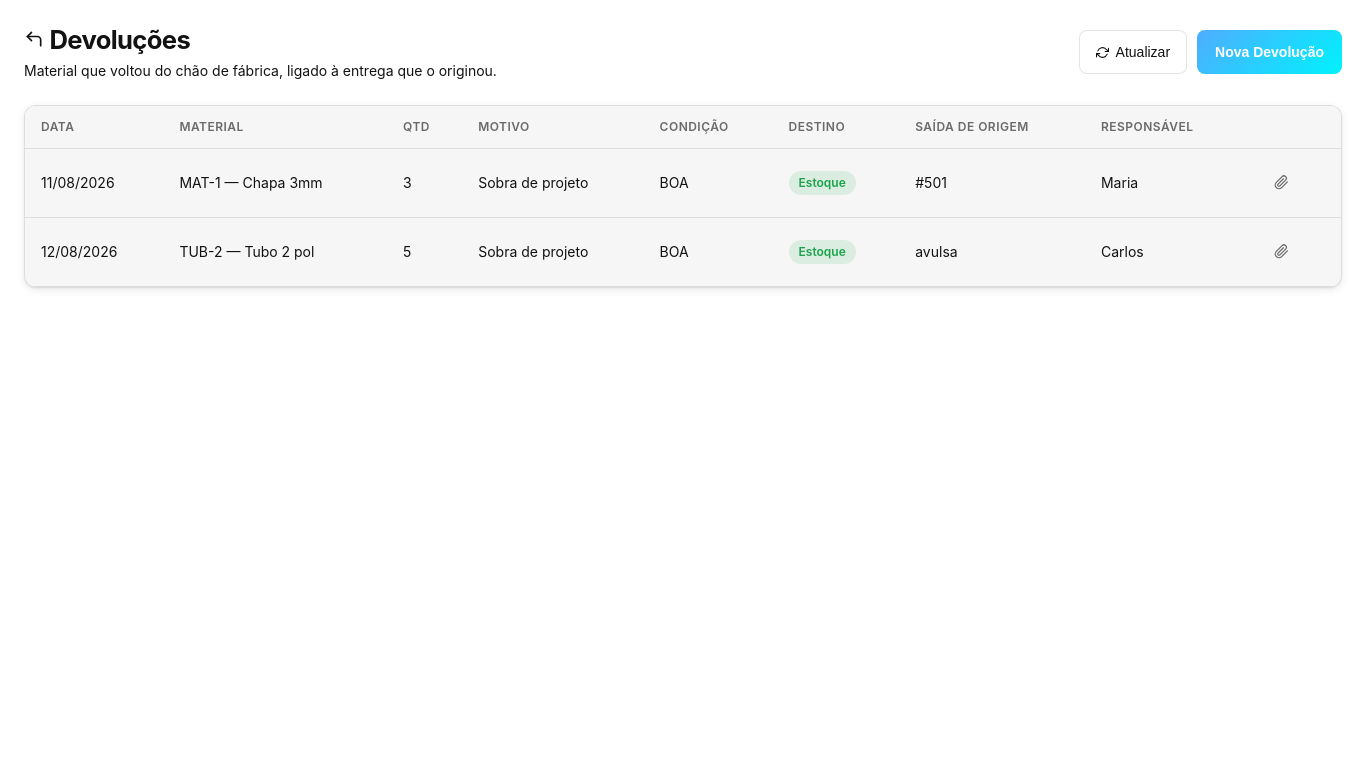
Scenario: DevolucoesAlmoxarifado — anexos da devolução (Etapa 34) › o clipe abre o modal de anexos DA devolucao da linha — e nao da primeira
Click the button with test id "anexos-devolucao-42": click(1282, 252) [1260, 230, 1304, 274]
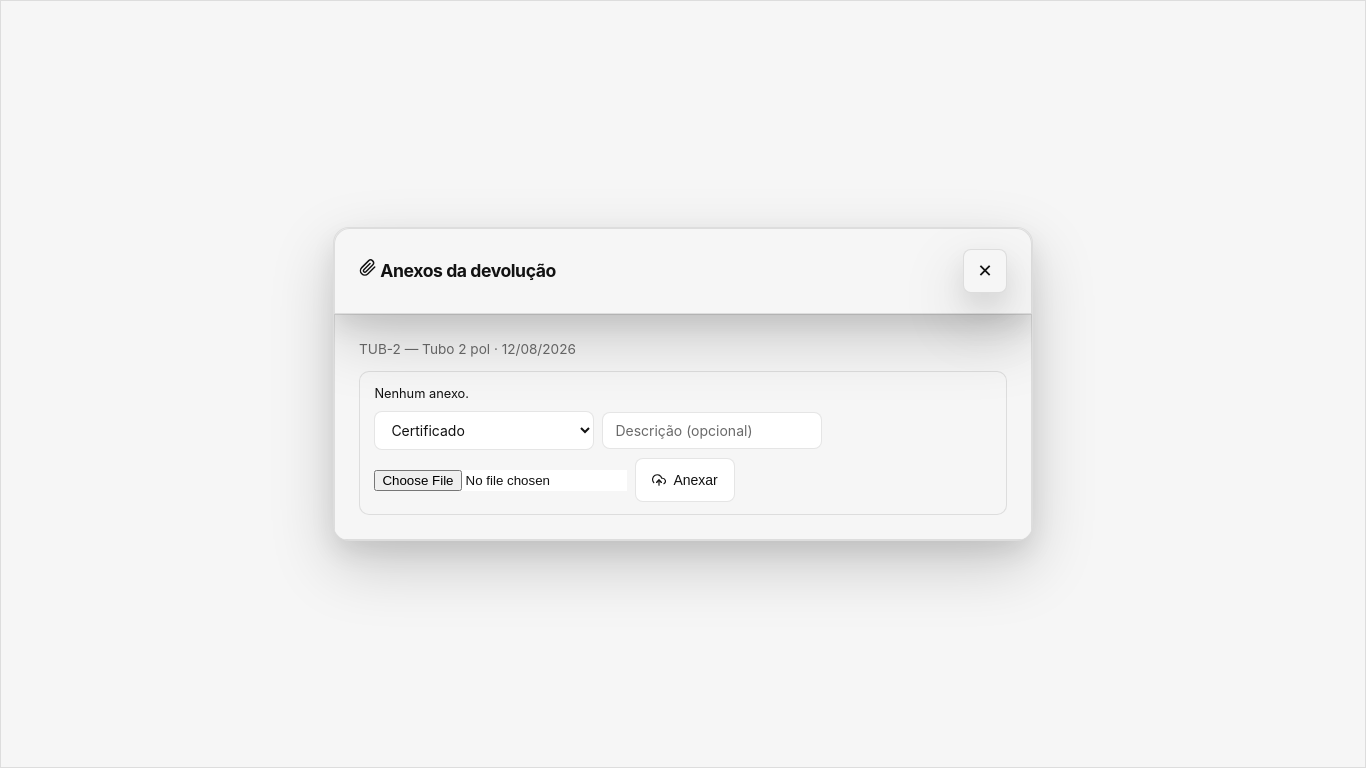
Result: the element with test id "anexos-modal" is shown
Result: the element with test id "anexos-documento" is shown at [359, 371, 1007, 515]
